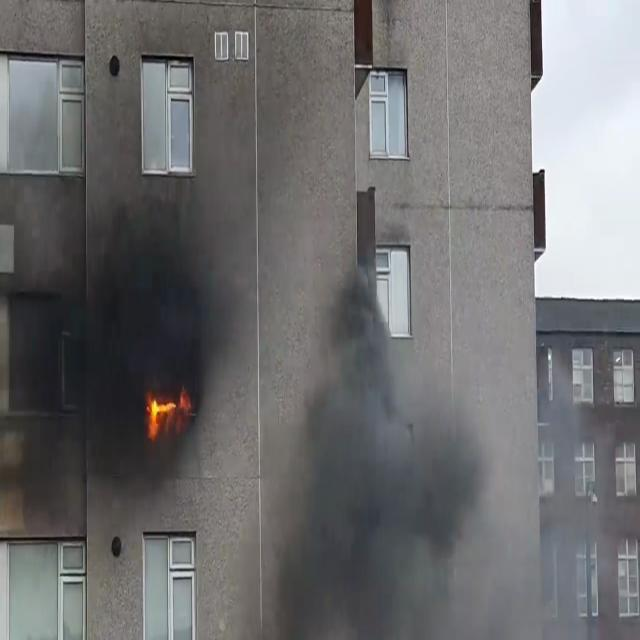Fire: (146, 392, 186, 430)
Smoke: (263, 272, 503, 640), (1, 138, 240, 502)
